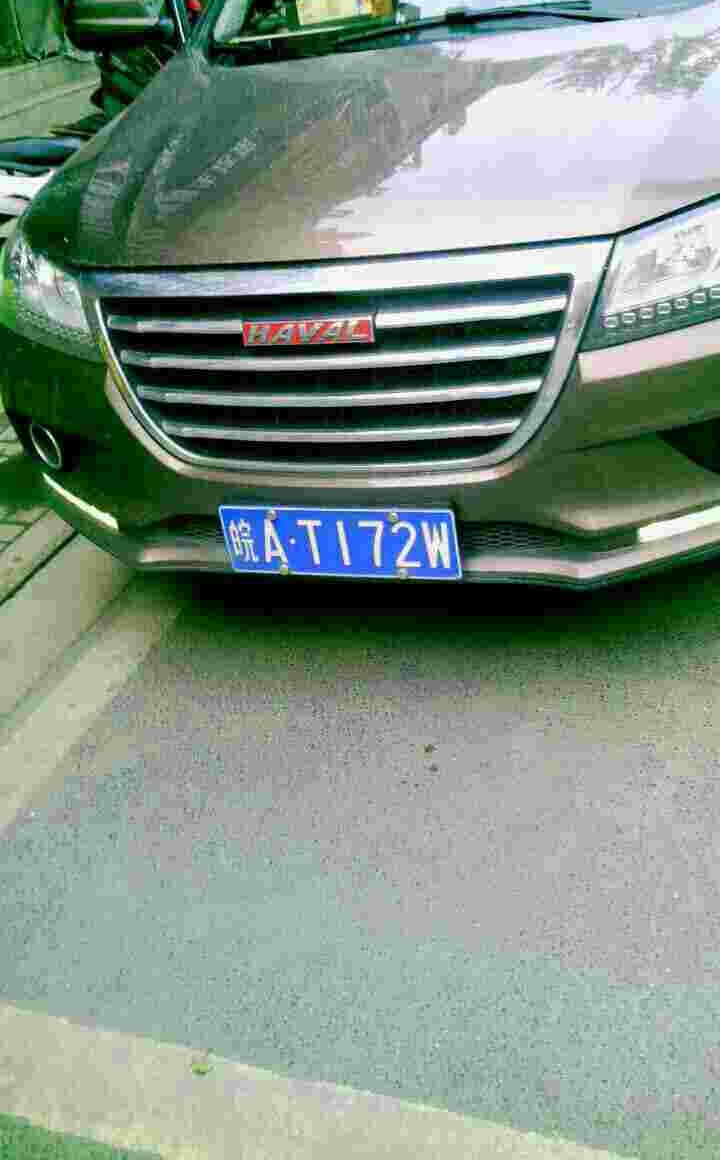car: (221, 504, 470, 585)
